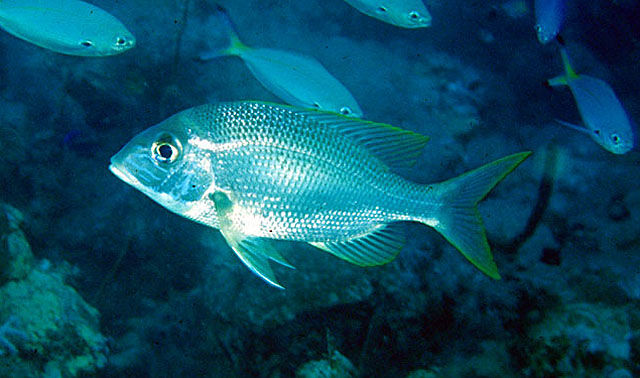fish: (108, 99, 533, 291)
